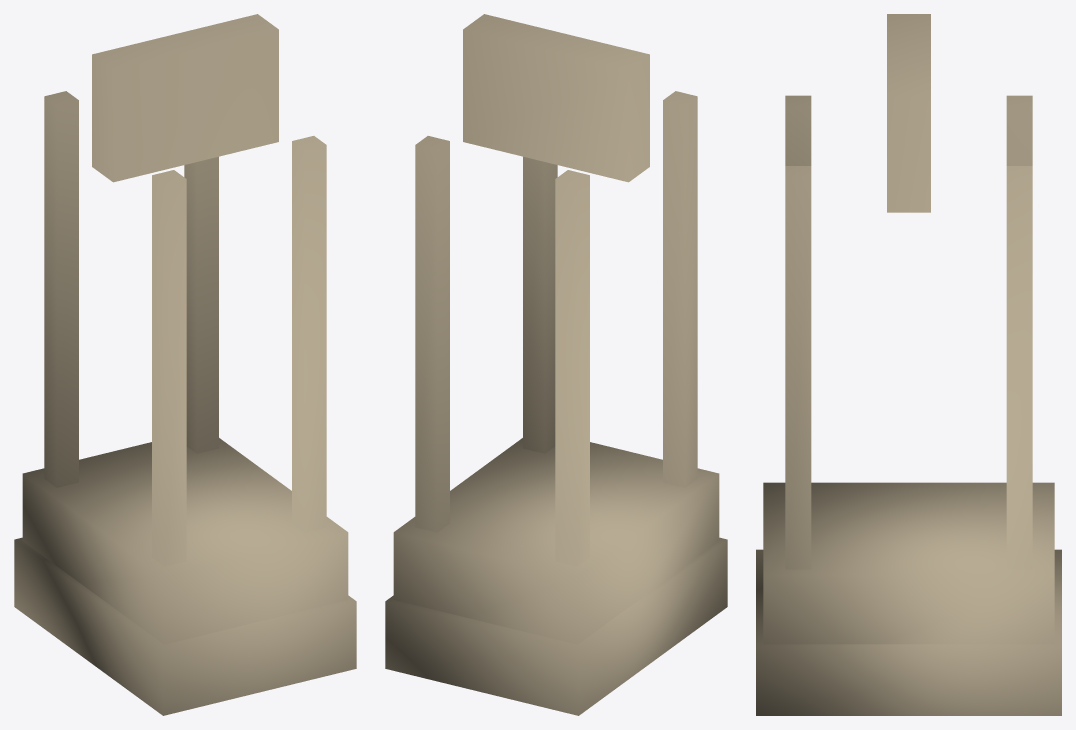
The model's file is sanctuary_of_apollo.obj.
The picture shows the model from 3 angles, left to right: view 1: azimuth 30°, elevation 25°; view 2: azimuth 150°, elevation 25°; view 3: azimuth 270°, elevation 25°; orthographic projection. The views are drawn at different scales.
Visible parts, largest first — view 1: building; view 2: building; view 3: building.
Part boxes in pixels (x1,y1,x2,y2): building: (14,14,356,715); building: (385,14,727,715); building: (756,14,1061,715).
Bounding box in the file's own units: 3.15 × 9.27 × 4.2.
